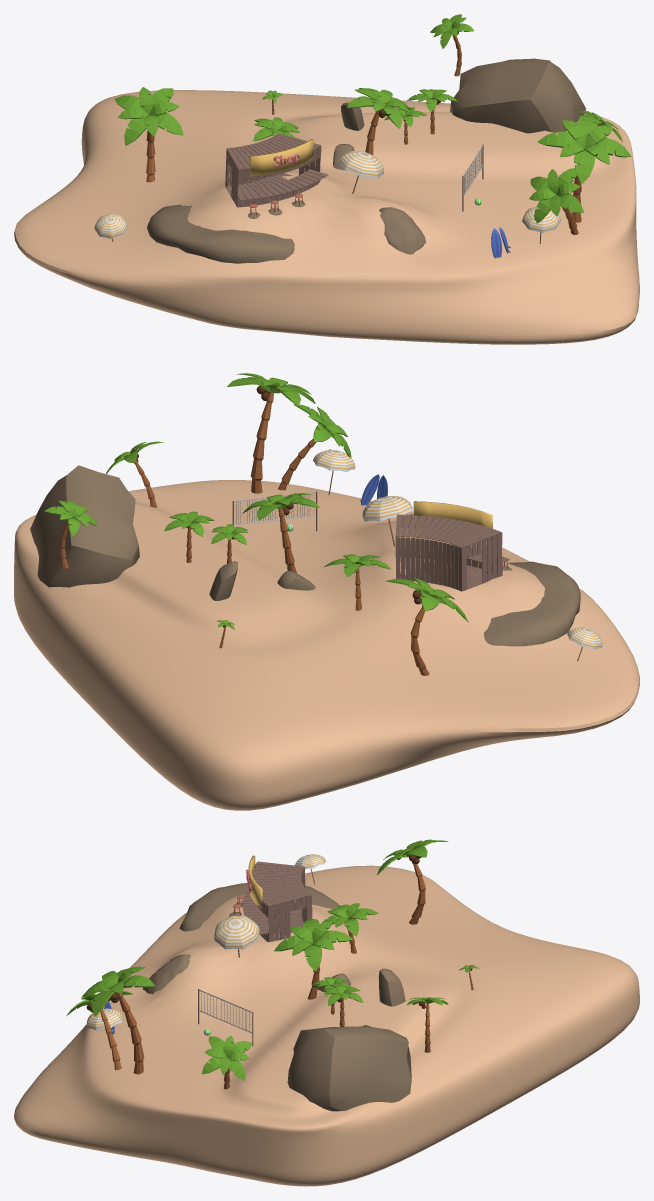
The model's file is BG4_Fix-Onlysand.fbx.
The picture shows the model from 3 angles, top to bottom: view 1: azimuth 30°, elevation 25°; view 2: azimuth 150°, elevation 25°; view 3: azimuth 270°, elevation 25°; orthographic projection. The views are drawn at different scales.
Parts seen in each view (by area): view 1: Cube.021, Cube.010, Cube.033, Cube.024, Cube.042, Cube.049, Cube.040, Cube.044, rock.005, Text, Cylinder.010, Cube.046 (+6 smaller); view 2: Cube.021, Cube.010, Cube.024, Cube.033, Cube.042, Cube.049, Cube.044, Cube.040, Text, Cube.046, Cylinder.010, Plane.003 (+5 smaller); view 3: Cube.021, Cube.010, Cube.024, Cube.042, Cube.044, Cube.033, Cube.041, Cylinder.010, Cube.049, Cube.048, Plane.003, rock.005 (+5 smaller).
Boxes of the visible parts, x1,y1,x2,y2 form: Cube.021: (14, 90, 639, 344); Cube.010: (450, 58, 585, 133); Cube.033: (147, 204, 294, 263); Cube.024: (225, 133, 328, 207); Cube.042: (537, 114, 631, 222); Cube.049: (114, 87, 183, 182); Cube.040: (529, 168, 583, 234); Cube.044: (347, 88, 411, 154); rock.005: (379, 207, 425, 254); Text: (250, 139, 314, 176); Cylinder.010: (338, 150, 383, 193); Cube.046: (430, 14, 474, 76); Cube.021: (14, 480, 639, 810); Cube.010: (30, 465, 139, 587); Cube.024: (395, 514, 509, 591); Cube.033: (484, 561, 580, 646); Cube.042: (227, 373, 315, 493); Cube.049: (386, 577, 468, 675); Cube.044: (242, 493, 319, 572); Cube.040: (278, 404, 351, 490); Text: (413, 501, 492, 528); Cube.046: (44, 500, 97, 568); Cylinder.010: (362, 496, 412, 546); Plane.003: (232, 491, 317, 539); Cube.021: (14, 865, 639, 1186); Cube.010: (287, 1025, 411, 1111); Cube.024: (242, 861, 312, 941); Cube.042: (81, 966, 154, 1074); Cube.044: (274, 919, 352, 999); Cube.033: (179, 883, 340, 931); Cube.041: (201, 1035, 252, 1089); Cylinder.010: (214, 915, 259, 957); Cube.049: (377, 839, 448, 924); Cube.048: (322, 903, 378, 953); Plane.003: (198, 989, 253, 1046); rock.005: (143, 954, 190, 994).
Size of the model in its own units: 529 by 155 by 510.
